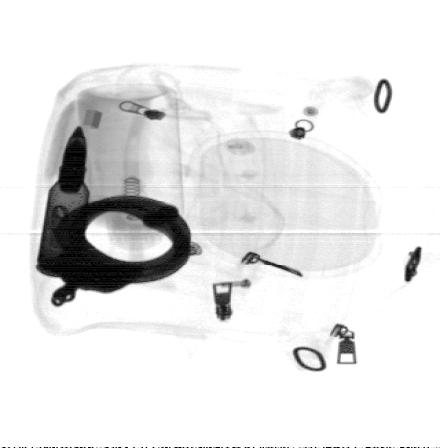Bullet: (35, 123, 94, 276)
HandCuffs: (49, 194, 192, 306)
